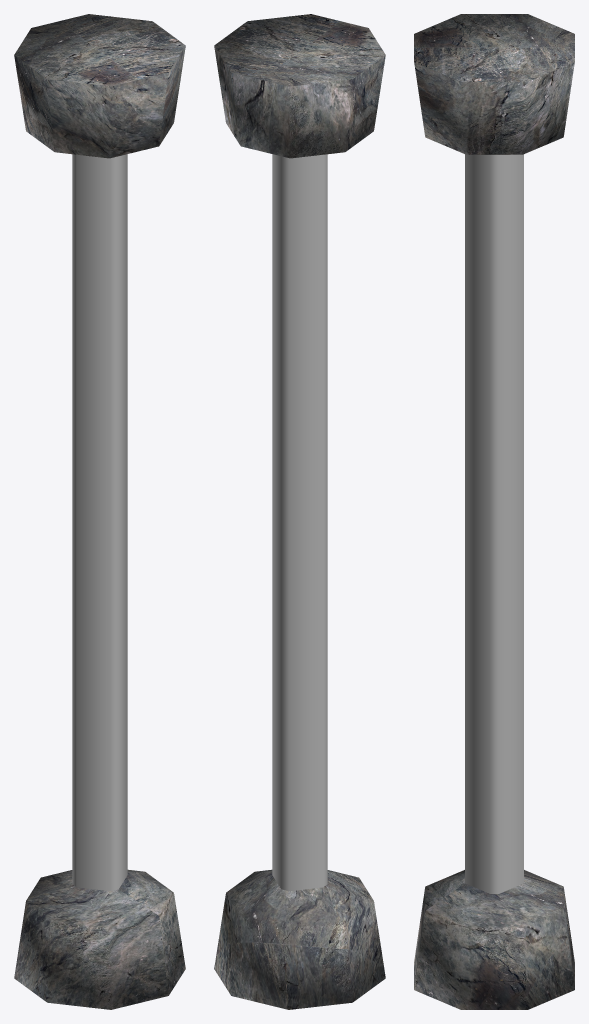
File: Säule_Breit.fbx
3 renders of one model, left to right at view 1: azimuth 30°, elevation 25°; view 2: azimuth 150°, elevation 25°; view 3: azimuth 270°, elevation 25°, orthographic.
Visible parts, largest first — view 1: Säule_Breit; view 2: Säule_Breit; view 3: Säule_Breit.
Boxes of the visible parts, <box> form: Säule_Breit: <box>14,14,185,1009</box>; Säule_Breit: <box>214,14,385,1009</box>; Säule_Breit: <box>414,14,574,1009</box>.
Bounding box in the file's own units: 94.17 × 600 × 94.17.
